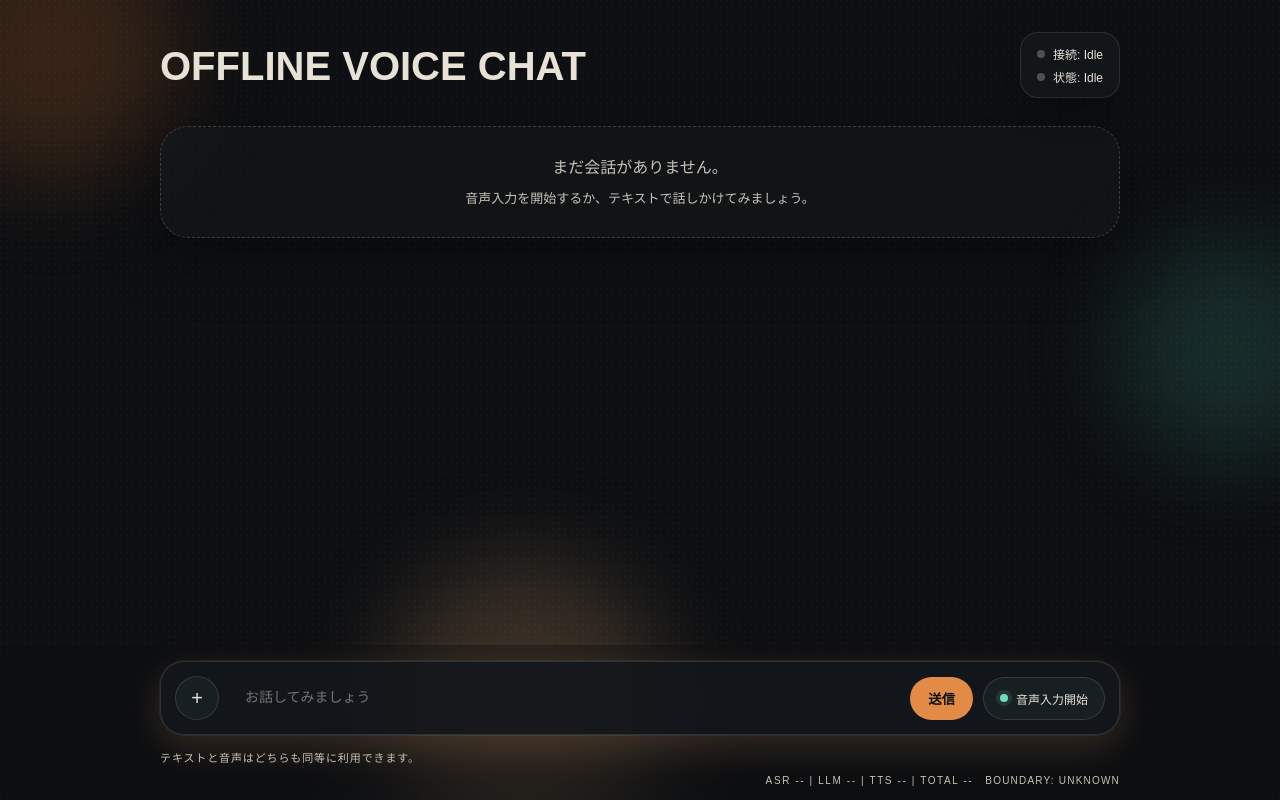
Test: App › allows safe end when an error occurs
Click the button "音声入力開始": (1044, 698) [983,676,1105,720]
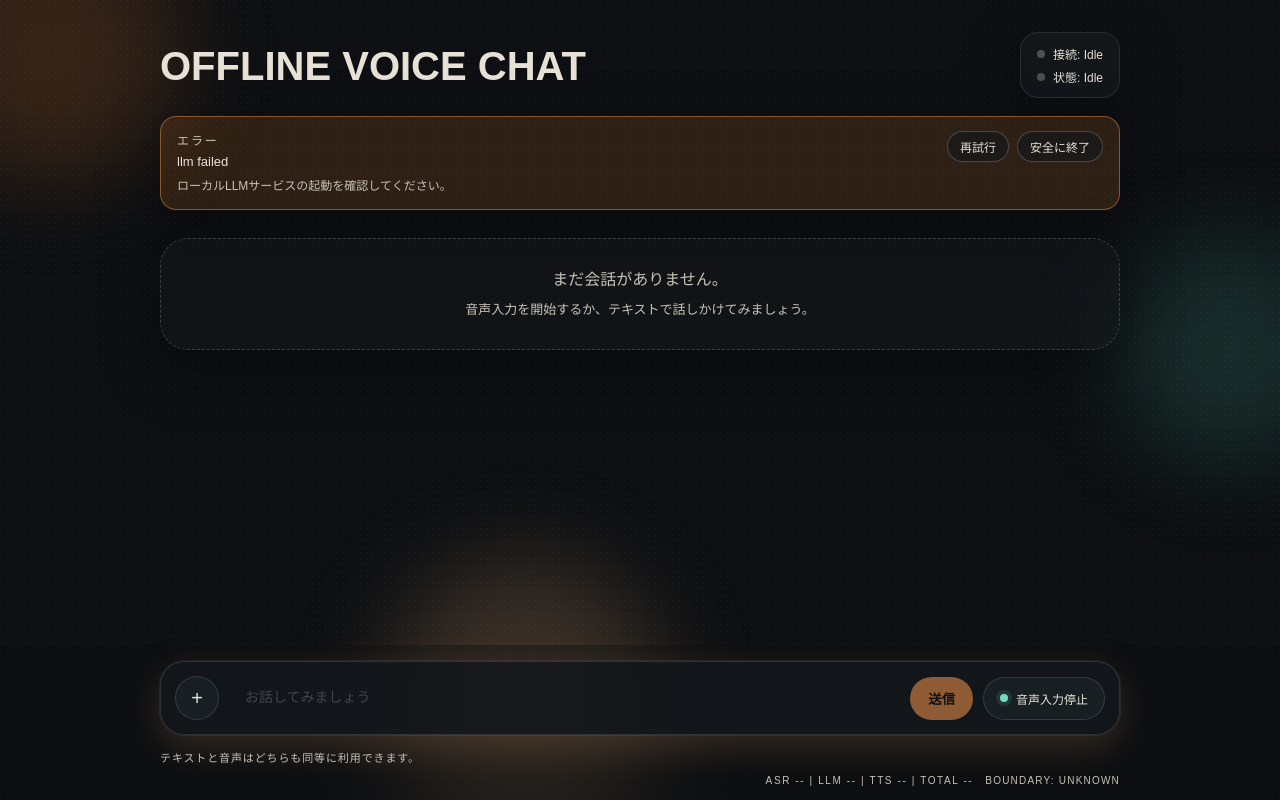
Click the button "安全に終了": (1060, 146) [1017,131,1103,162]
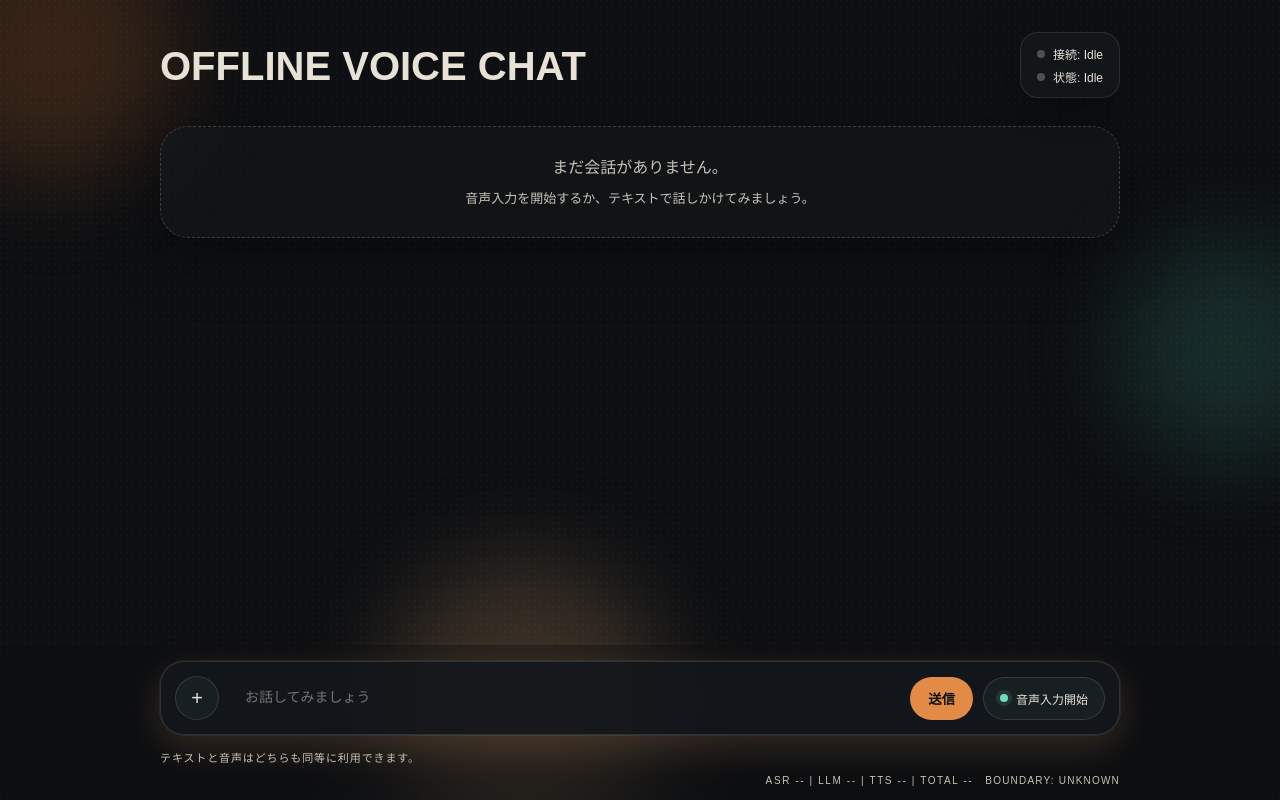
Check: the message "エラー llm failed ローカルLLMサービスの起動を確認してください。 再試行 安全に終了" is gone
